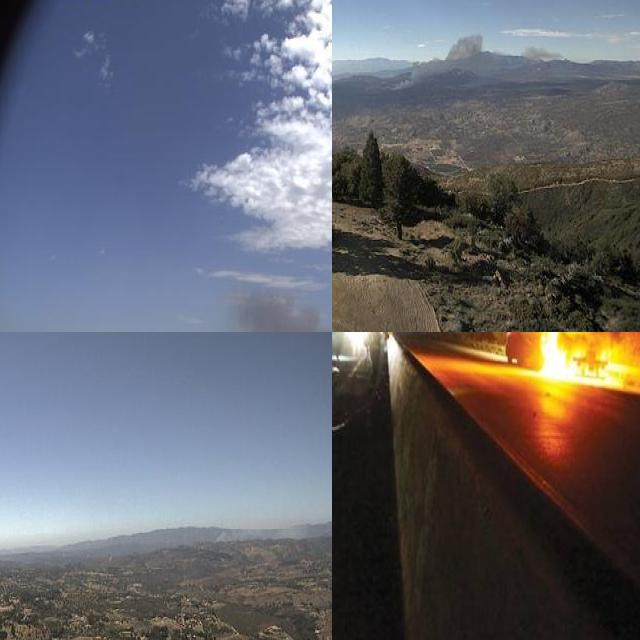fire: (535, 332, 608, 376)
smoke: (387, 30, 484, 94), (228, 277, 332, 332), (212, 518, 314, 546)
